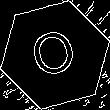O_S: (27, 25, 83, 85)
